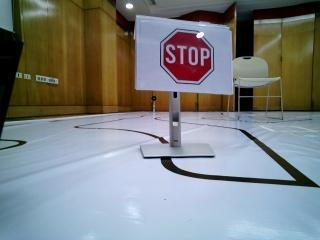stop: (137, 18, 223, 89)
